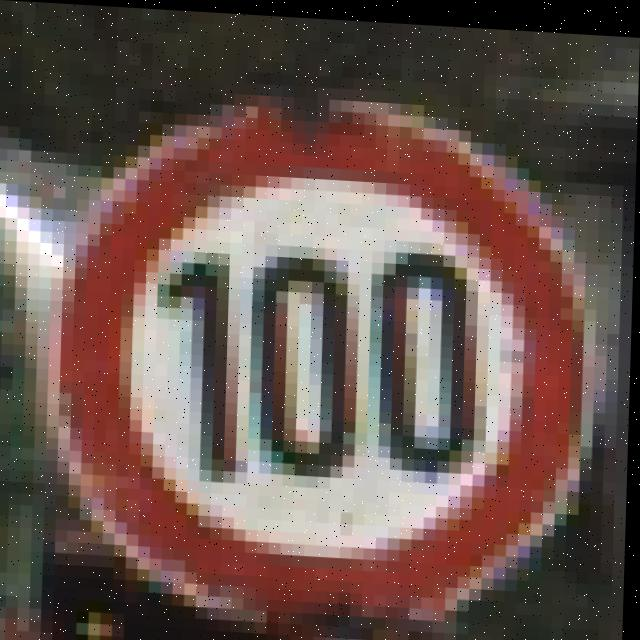speed_limit_100: (68, 85, 609, 631)
